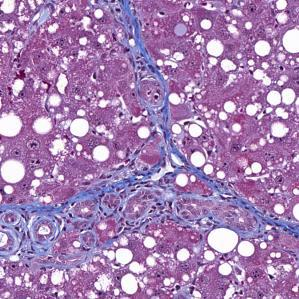fibrosis: (88, 172, 227, 229), (133, 44, 168, 100)
